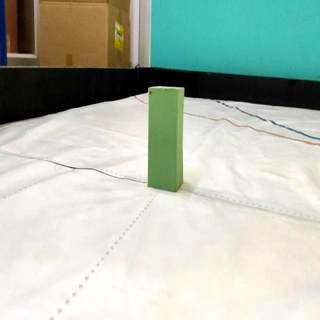greenbox: (147, 85, 183, 194)
